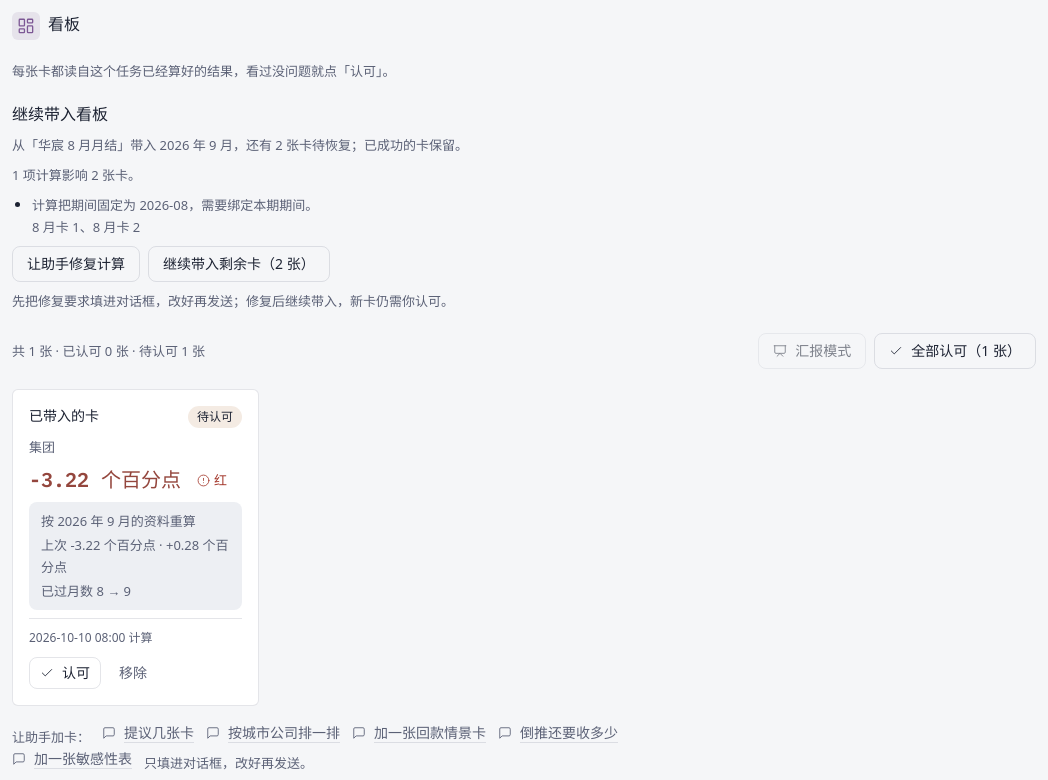
Test: the board on newer files and from last month › continues a partially carried board without removing successful cards or accepting the new results
Click the button "继续带入剩余卡（2 张）": (239, 264) [148,246,330,282]
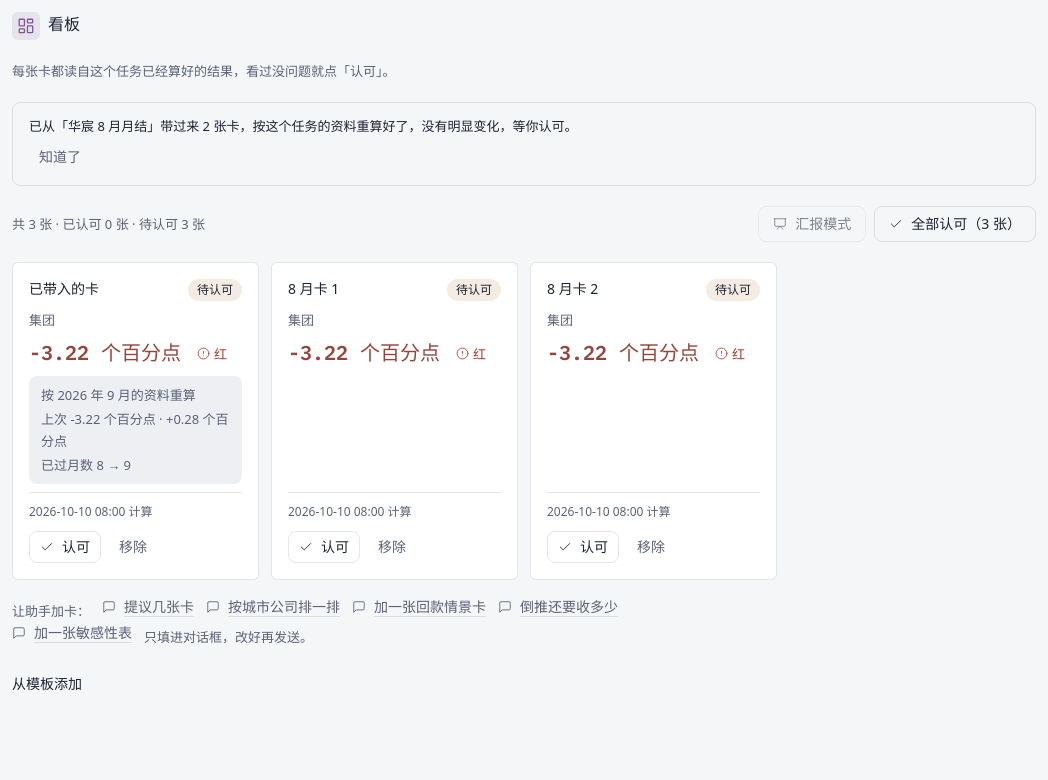
Now the text "共 3 张 · 已认可 0 张 · 待认可 3 张" is shown, box [12,213,205,235]
Now the heading "继续带入看板" is gone
